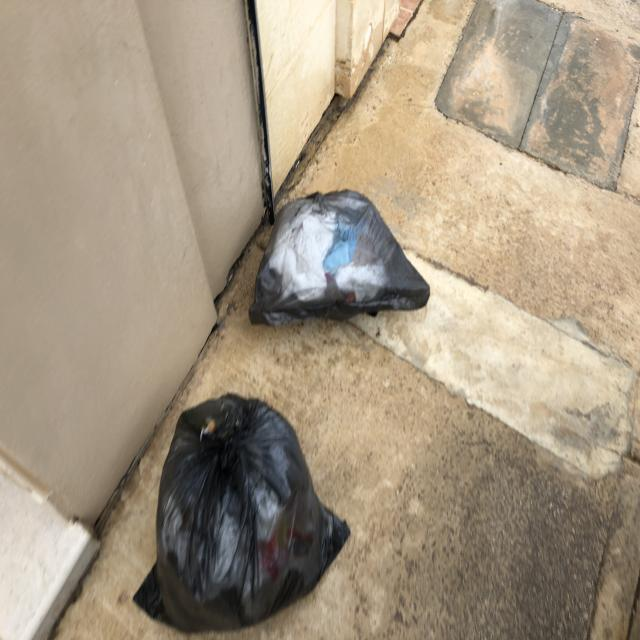Mixed Waste -Black Bag-: (135, 395, 353, 634), (250, 190, 432, 325)
